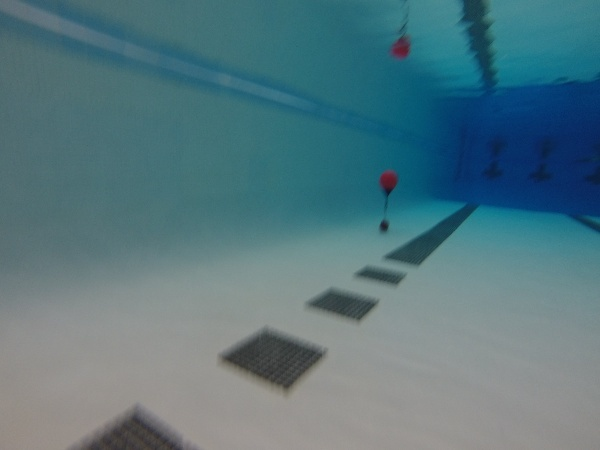buoy_red: (378, 169, 399, 200)
